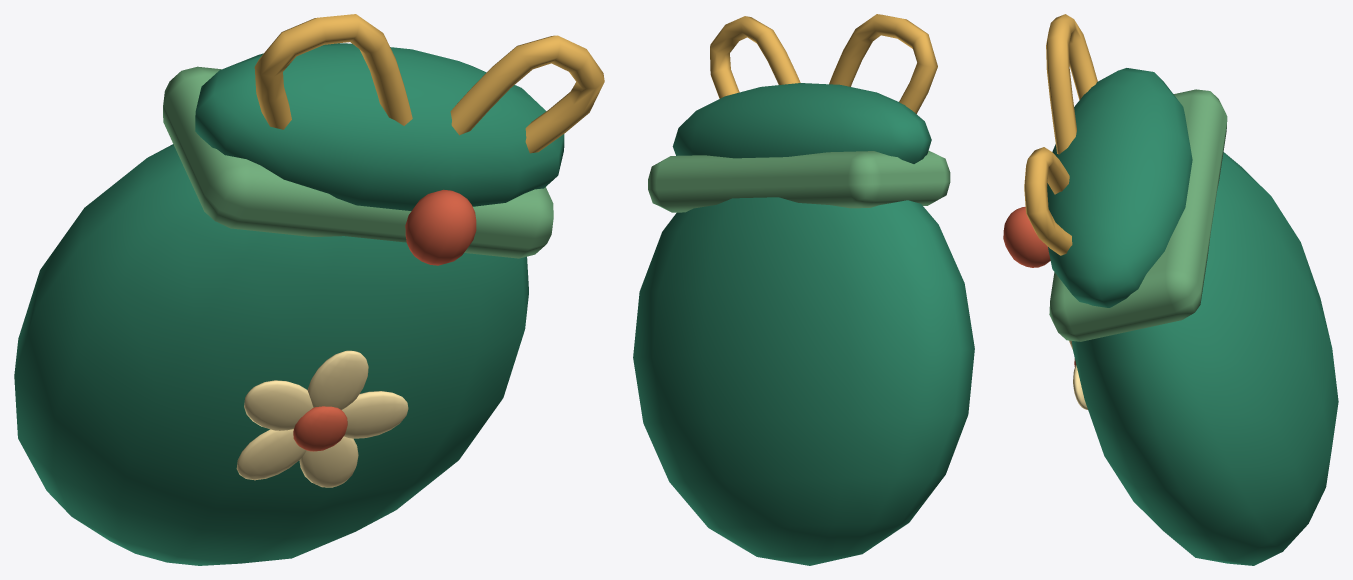
File: embroidered-pouch.glb
The picture shows the model from 3 angles, left to right: view 1: azimuth 30°, elevation 25°; view 2: azimuth 150°, elevation 25°; view 3: azimuth 270°, elevation 25°; orthographic projection. The views are drawn at different scales.
Parts seen in each view (by area): view 1: embroidered-pouch; view 2: embroidered-pouch; view 3: embroidered-pouch.
Boxes of the visible parts, x1,y1,x2,y2 form: embroidered-pouch: [14, 14, 604, 565]; embroidered-pouch: [633, 14, 974, 565]; embroidered-pouch: [1003, 14, 1338, 565].
Bounding box in the file's own units: 0.5388 × 0.7169 × 0.4259.
